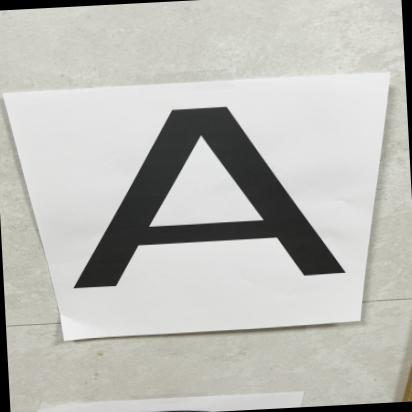seat: (63, 88, 378, 296)
